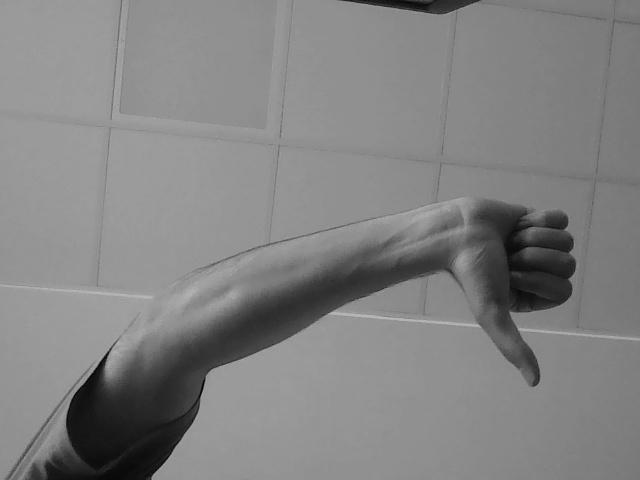bad: (432, 172, 582, 390)
